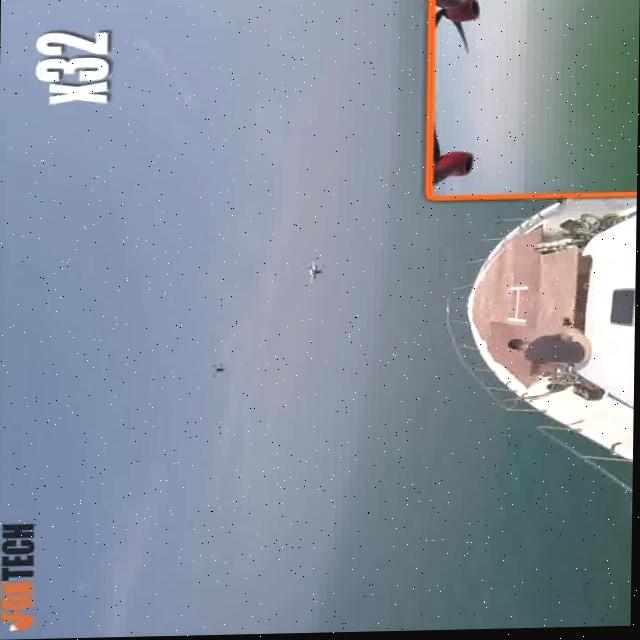drone: (293, 258, 331, 293), (200, 358, 239, 388)
